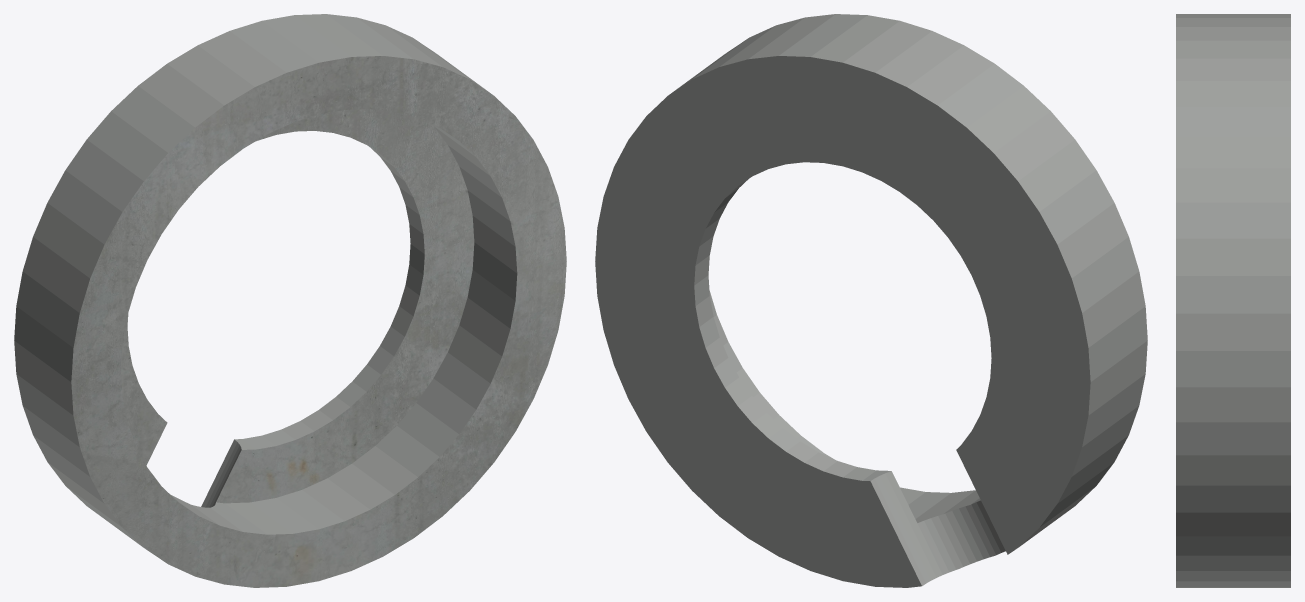
Rendered from pool_021.obj.
The picture shows the model from 3 angles, left to right: view 1: azimuth 30°, elevation 25°; view 2: azimuth 150°, elevation 25°; view 3: azimuth 270°, elevation 25°; orthographic projection.
Bounding box in the file's own units: 10 × 10 × 2.
